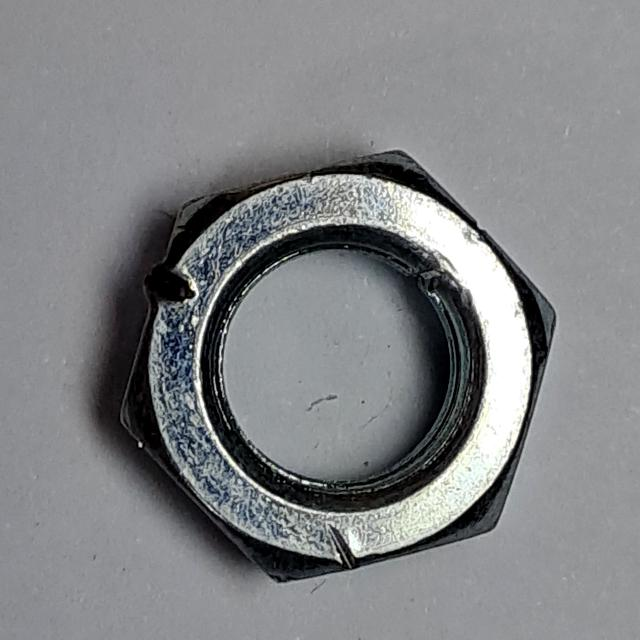Scratches: (106, 128, 572, 603)
